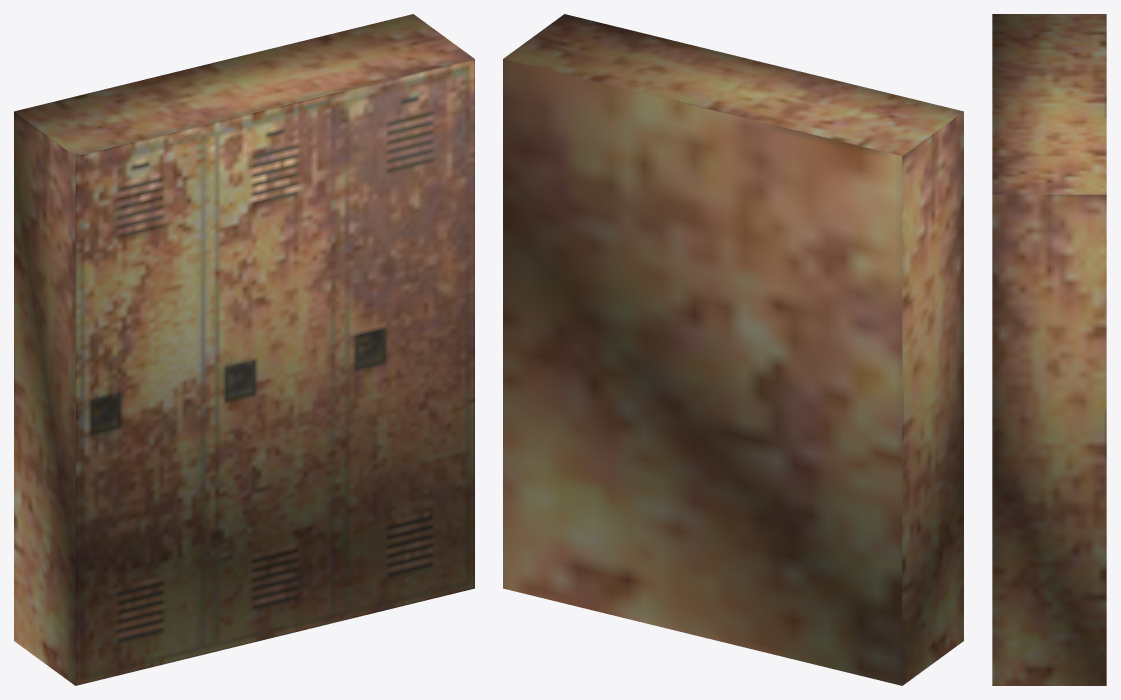
File: locker2.glb
3 renders of one model, left to right at view 1: azimuth 30°, elevation 25°; view 2: azimuth 150°, elevation 25°; view 3: azimuth 270°, elevation 25°, orthographic. The views are drawn at different scales.
Parts seen in each view (by area): view 1: Locker2; view 2: Locker2; view 3: Locker2.
Part boxes in pixels (x1,y1,x2,y2): Locker2: (14,14,474,685); Locker2: (503,14,963,685); Locker2: (992,14,1106,685).
Size of the model in its own units: 1.5 by 1.9 by 0.4.
1 material, 1 textured.
